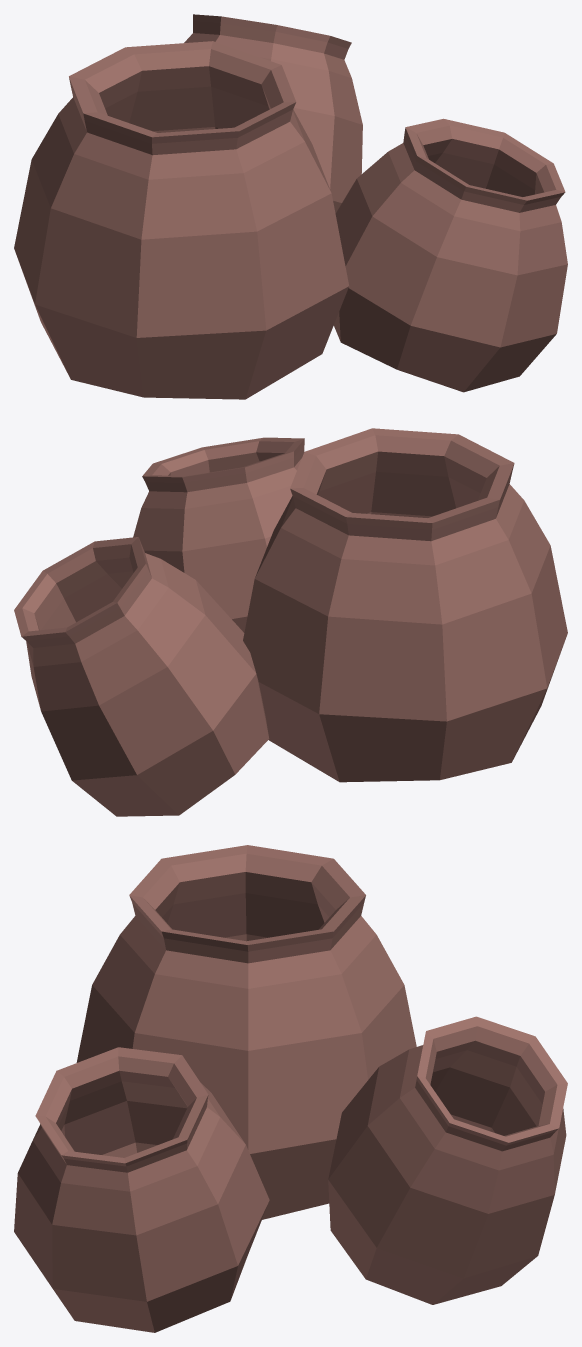
The model's file is Coral4.fbx.
The picture shows the model from 3 angles, top to bottom: view 1: azimuth 30°, elevation 25°; view 2: azimuth 150°, elevation 25°; view 3: azimuth 270°, elevation 25°; orthographic projection. The views are drawn at different scales.
Visible parts, largest first — view 1: Cube.002, Cube.003, Cube.004; view 2: Cube.002, Cube.004, Cube.003; view 3: Cube.002, Cube.003, Cube.004.
Boxes of the visible parts, <box> form: Cube.002: <box>14,41,348,399</box>; Cube.003: <box>334,118,567,392</box>; Cube.004: <box>184,14,362,213</box>; Cube.002: <box>243,428,567,782</box>; Cube.004: <box>14,537,269,816</box>; Cube.003: <box>133,437,304,632</box>; Cube.002: <box>76,845,416,1219</box>; Cube.003: <box>14,1047,269,1332</box>; Cube.004: <box>328,1016,567,1304</box>.
Size of the model in its own units: 186 by 116 by 186.
